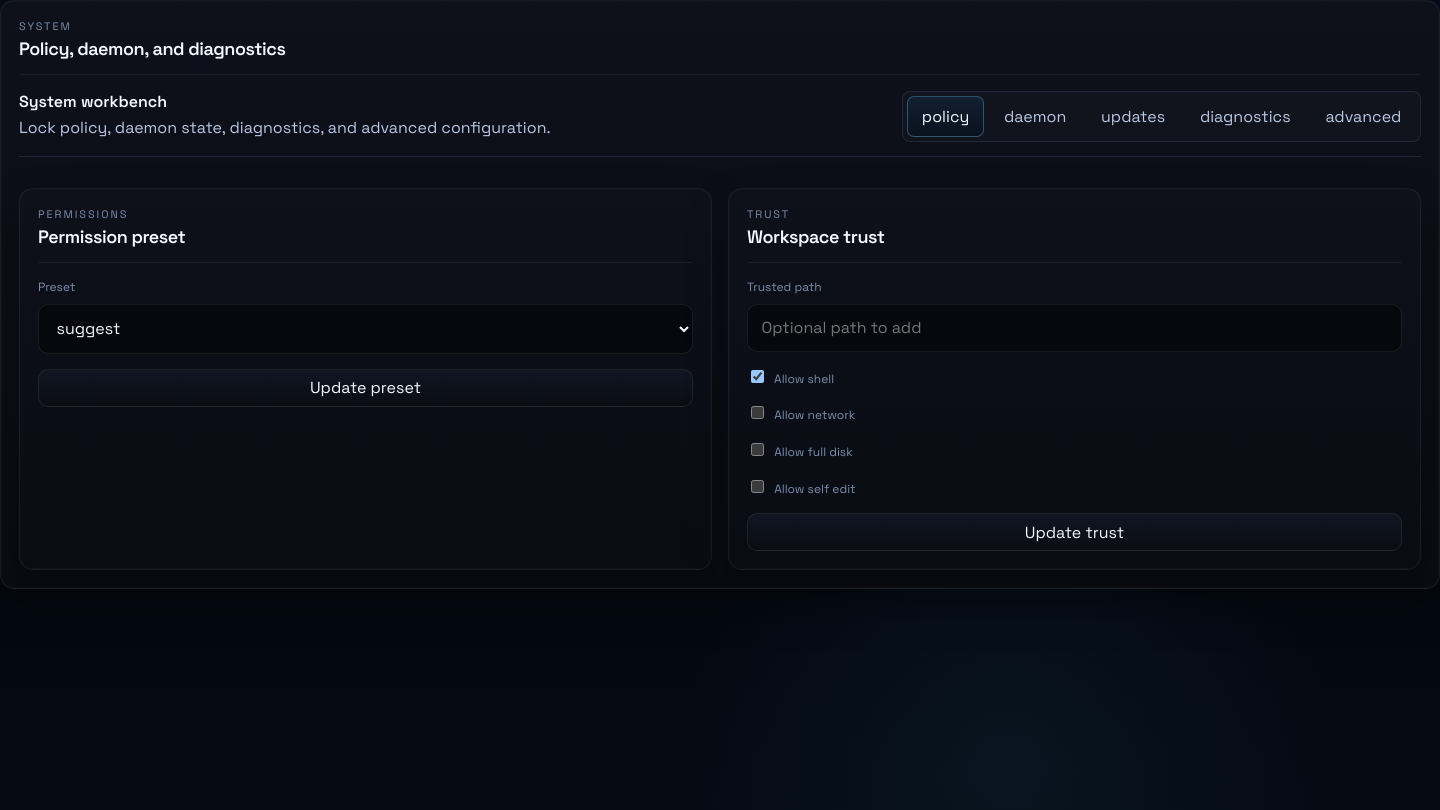
Scenario: SystemPage updates › runs a manual update check and renders the candidate build
The width and height of the screenshot is (1440, 810).
Click the button "updates". click: (1133, 116)
box: [1086,96,1180,137]
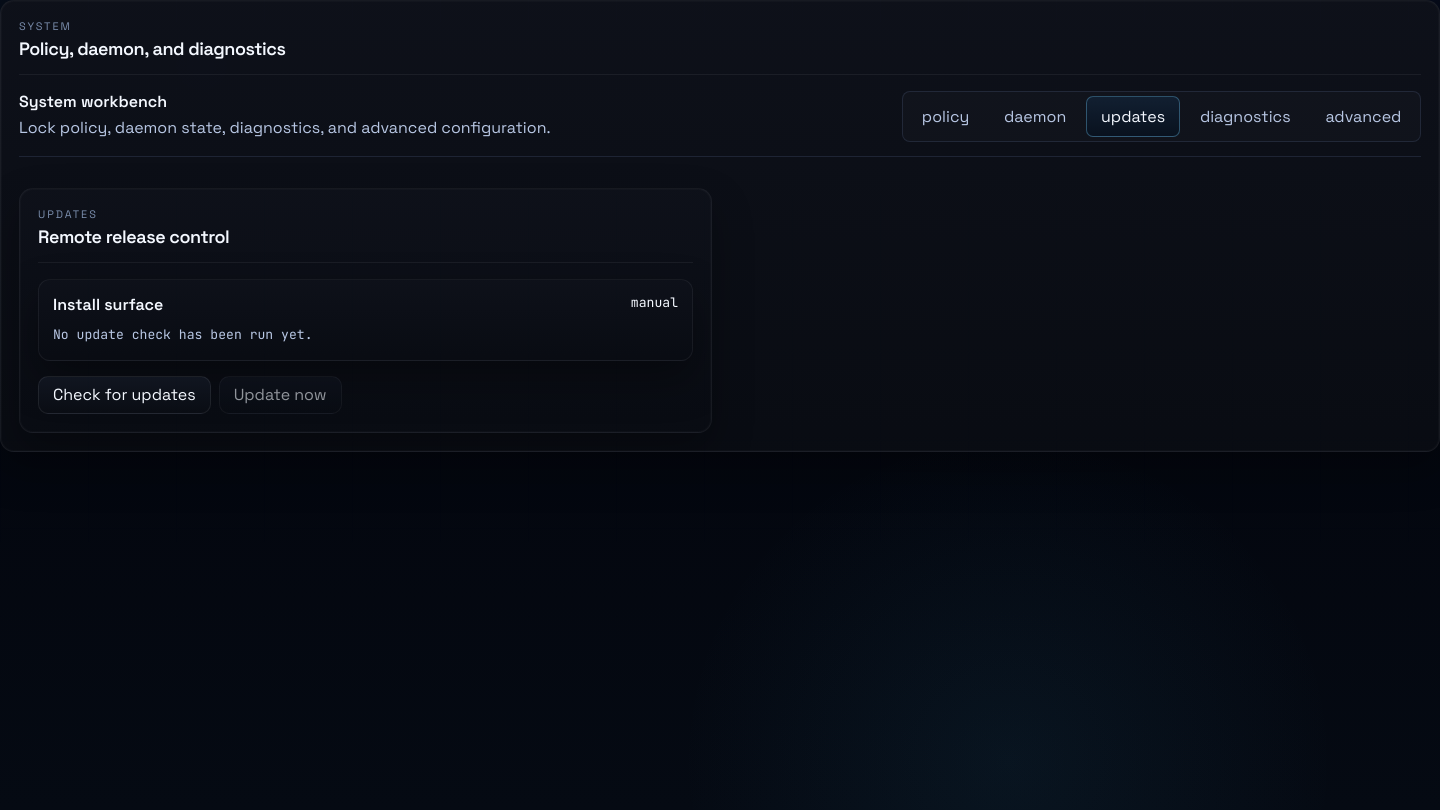
Click the button "Check for updates". click: (124, 395)
box: [38,376,211,414]
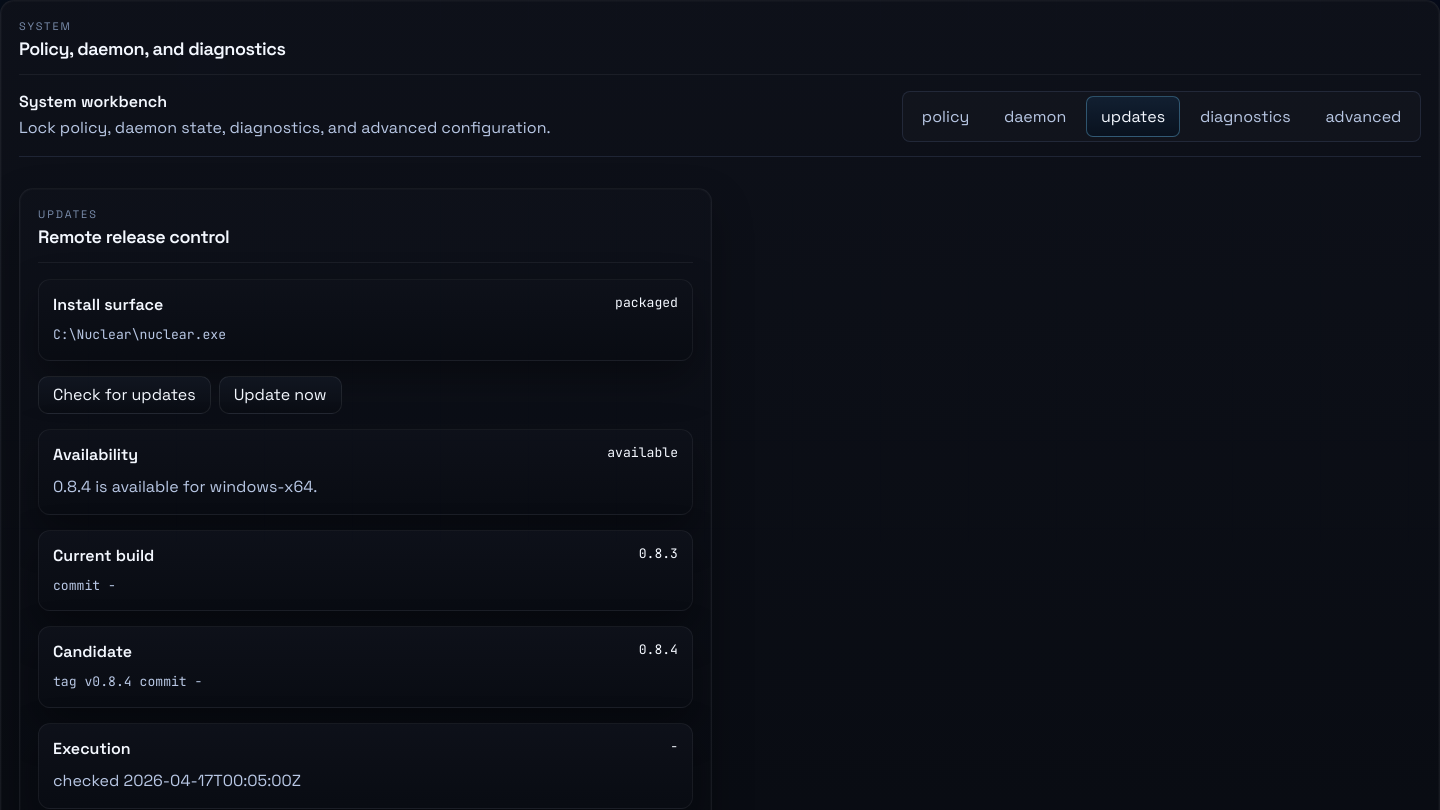
Check: the text "0.8.4 is available for windows-x64." is shown, box [53,476,317,497]
Check: the text "tag v0.8.4 commit -" is shown, box [53,673,202,690]
Check: the button "Update now" is enabled, box [219,376,342,414]
